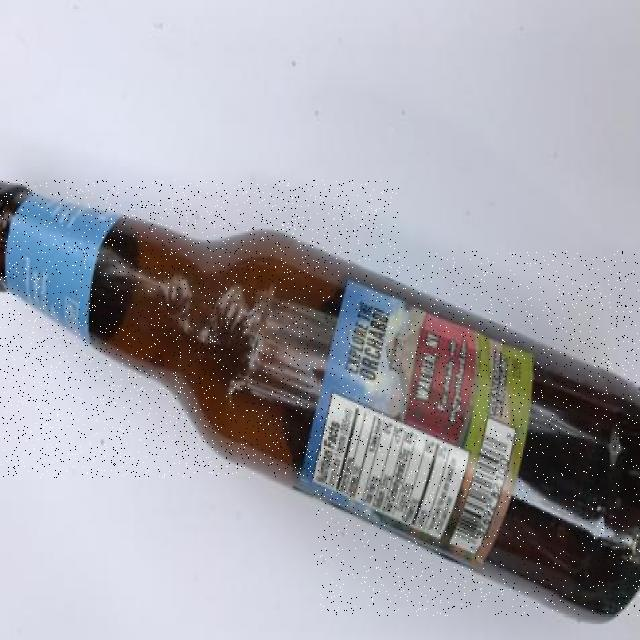glass: (0, 181, 399, 478), (320, 252, 640, 616)
paper: (313, 279, 535, 566)
